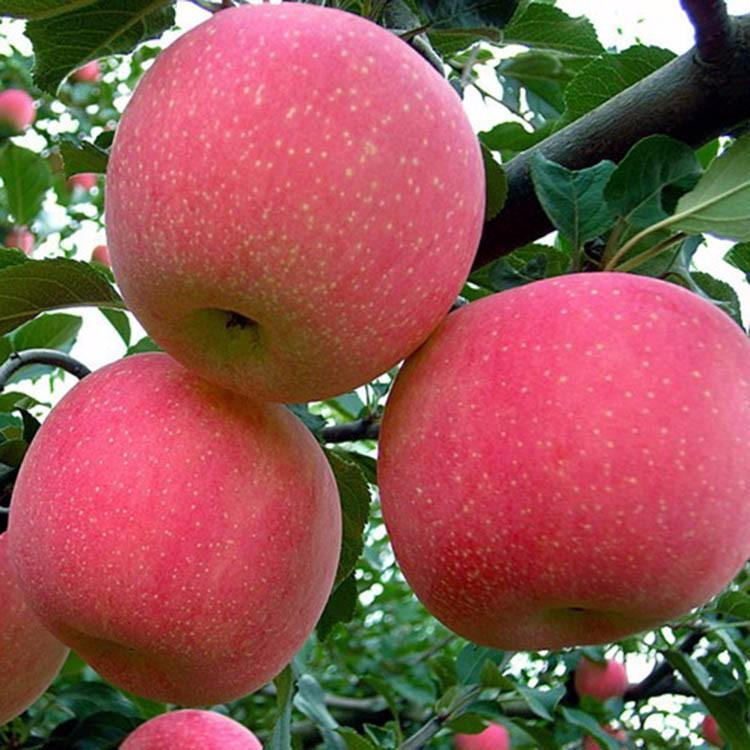apple: (91, 8, 496, 407), (375, 272, 750, 651), (4, 356, 348, 701), (570, 652, 627, 703), (1, 89, 35, 133)
